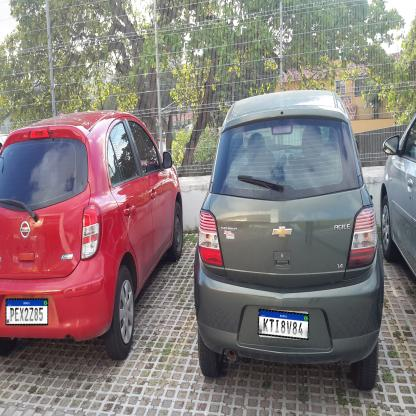PlacaM: (258, 309, 309, 340), (6, 298, 48, 326)
